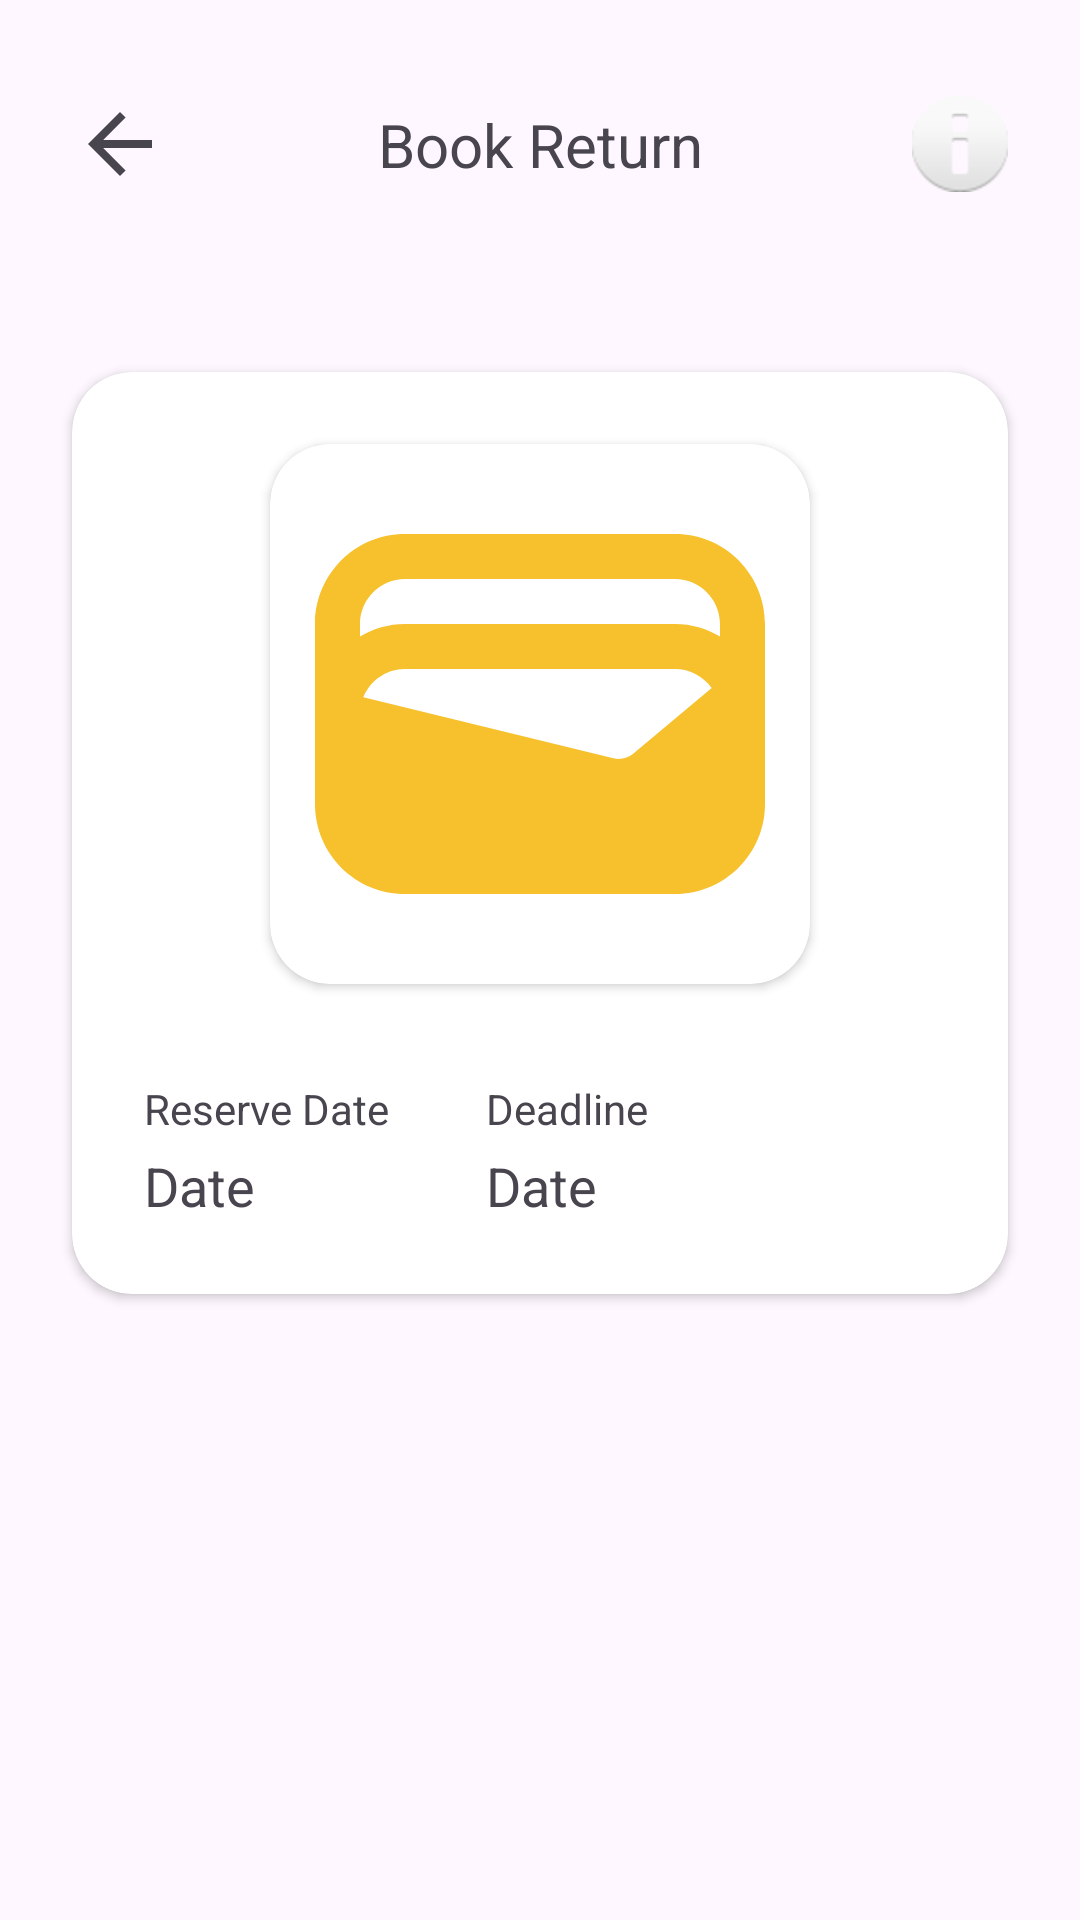

Icons on this 1080px×1920px Android screen, each with the point to tap as (x,y):
info: (960,153)
